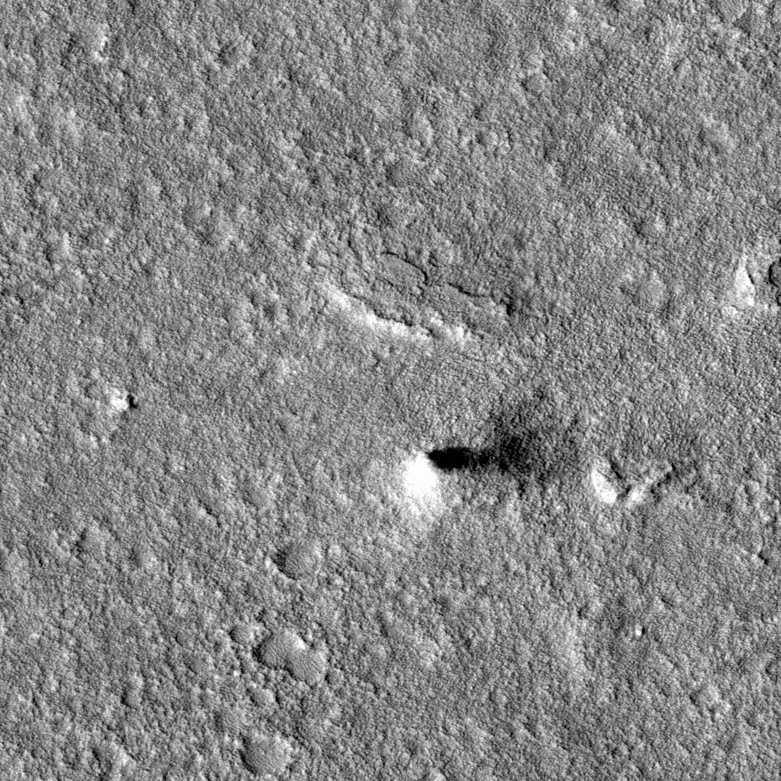dust_devil: (402, 420, 546, 504)
